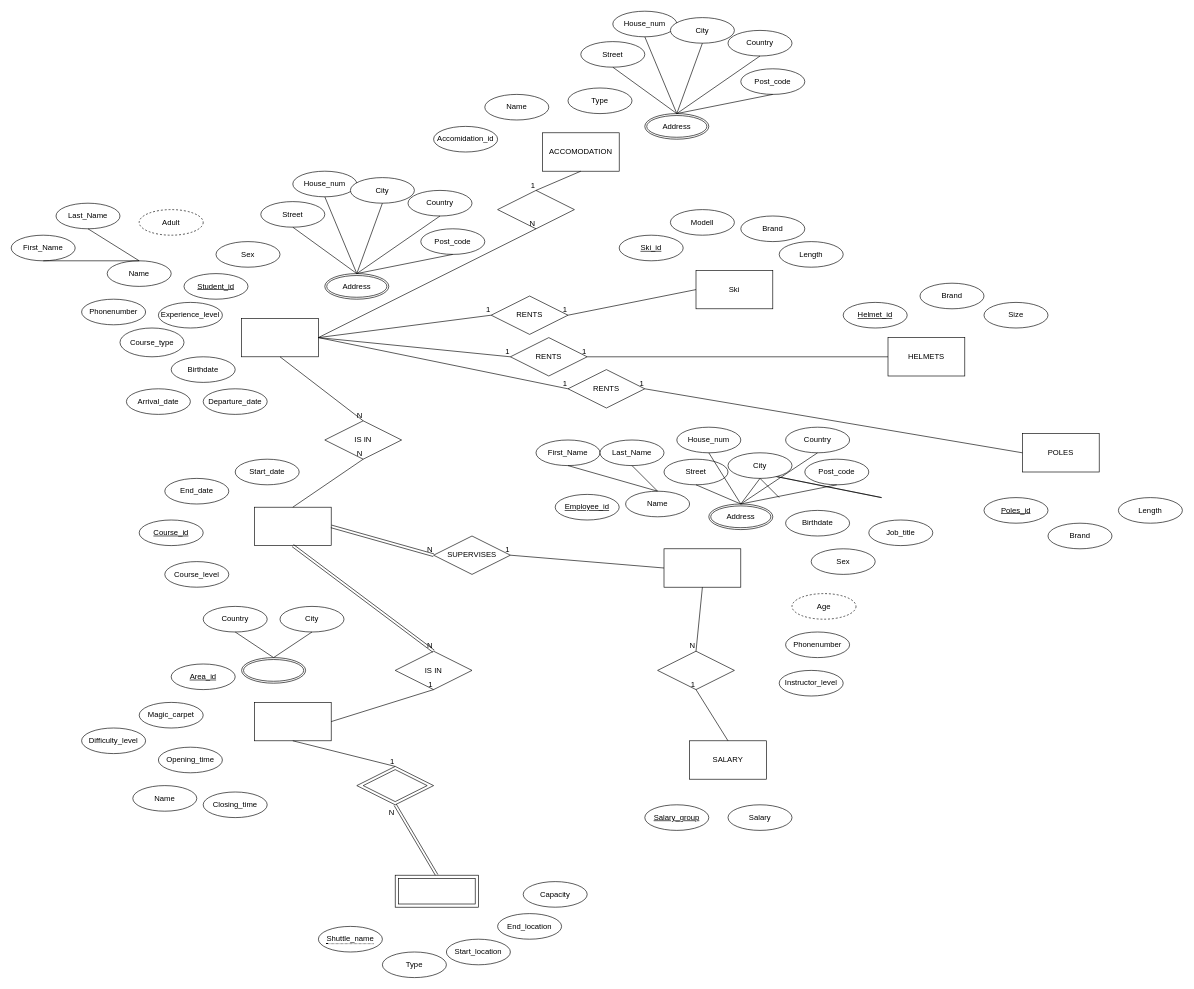
Image size: 1194x989. Some labels were removed from this diagram. The centre of each missing label's shape, as x and y in pixels:
AREA: the point at 292,721
COURSE: the point at 292,526
Drives IN: the point at 395,785
EMPLOYEE: the point at 702,567
HAS: the point at 695,670
Location: the point at 273,670
SHUTTLE: the point at 436,891
STAYS AT: the point at 535,209
STUDENT: the point at 279,337
